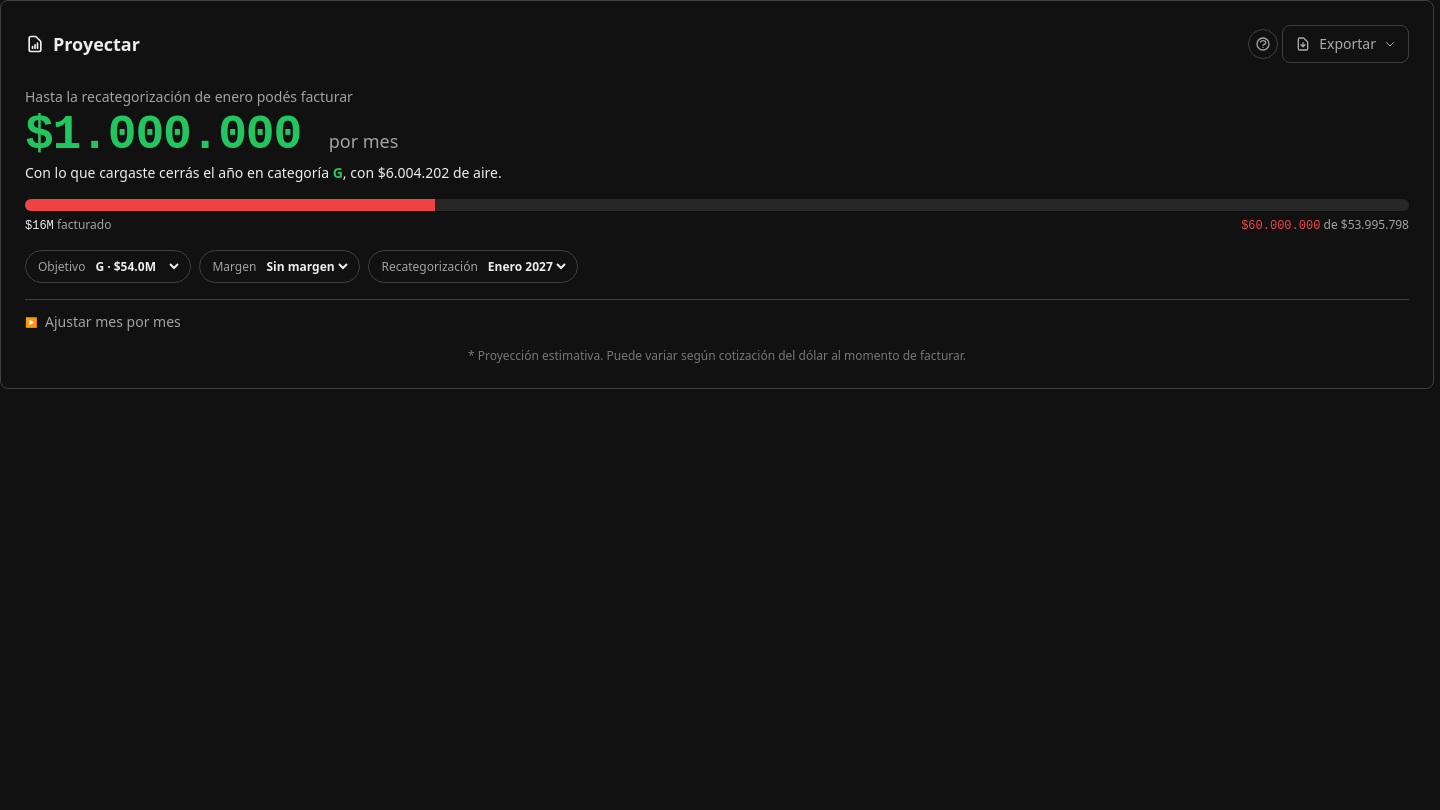
ProjectionPanel · dónde termina la ventana › avisa cuando el total se pasa del tope
The image size is (1440, 810).
Step 1. Click the heading "▶ Ajustar mes por mes" → coordinates (103, 322), box [25,312,181,331]
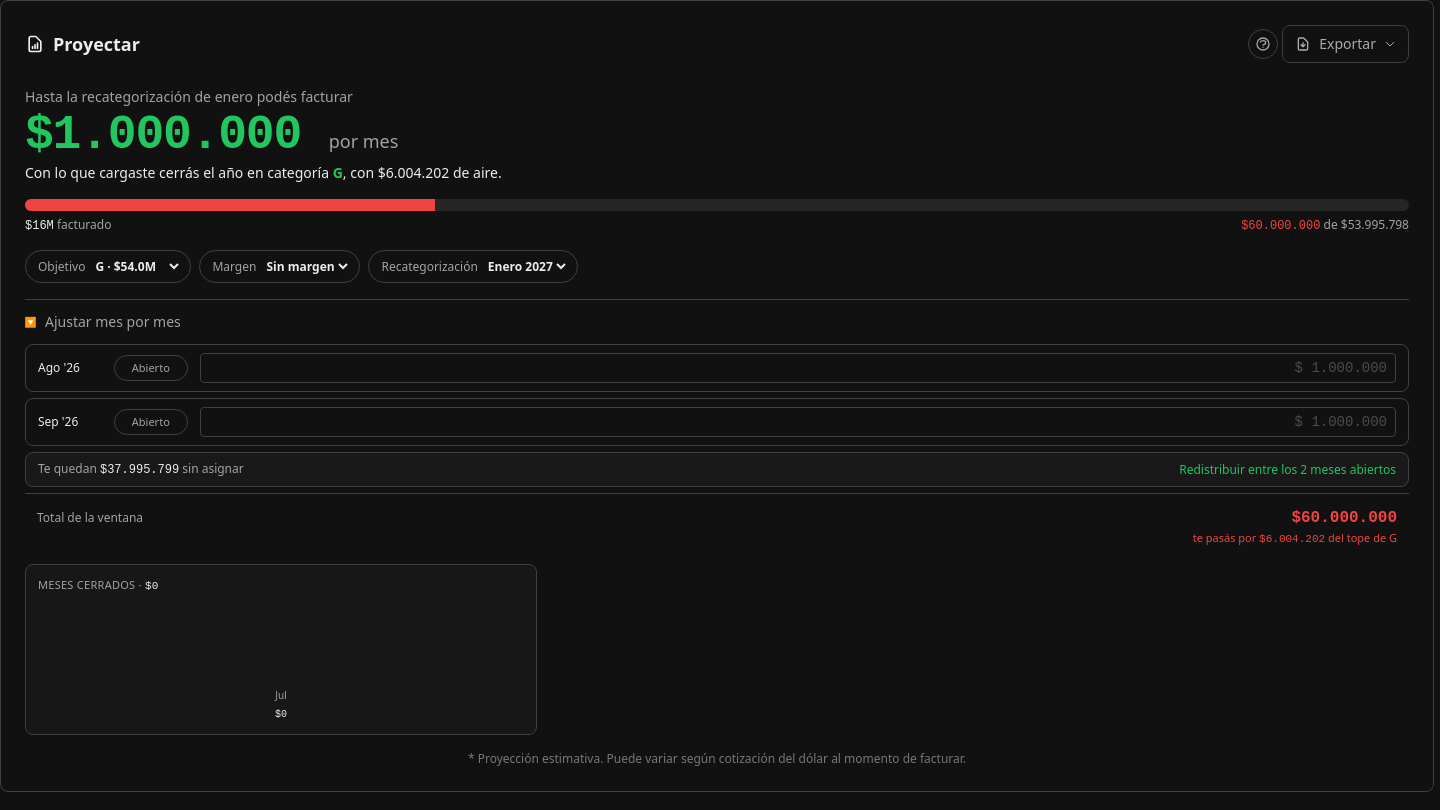
Expected: the element with test id "total-desglose" shows "te pasás", [1193,530,1259,545]
Expected: the element with test id "total-desglose" shows "6.004.202", [1266,533,1325,545]
